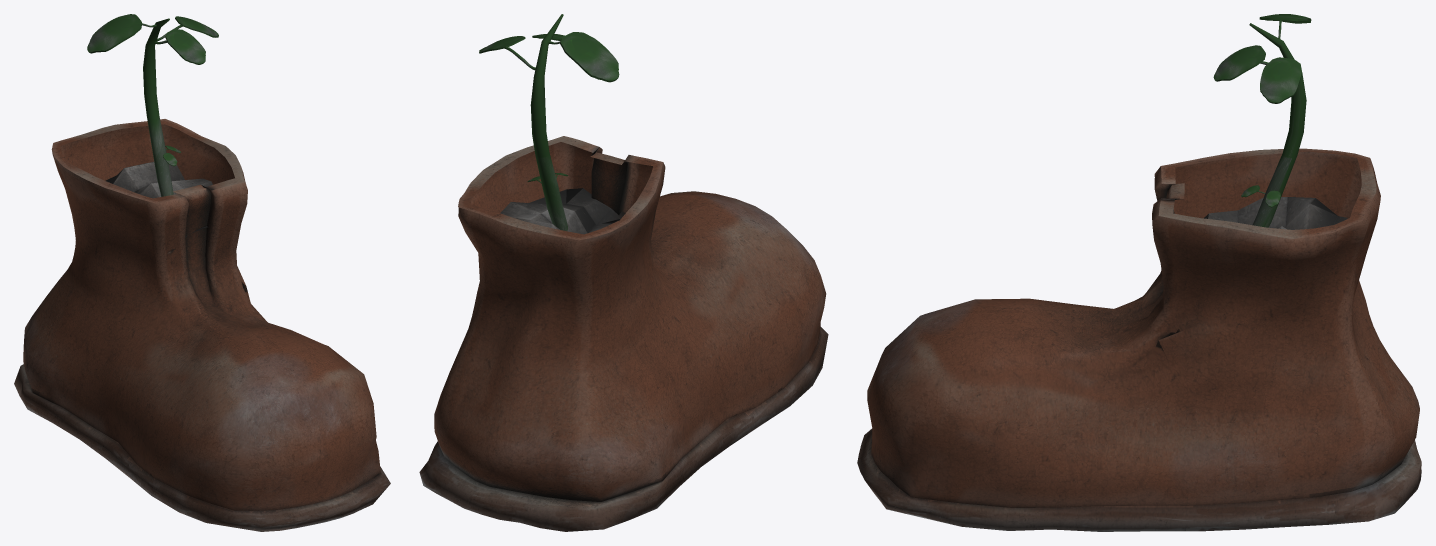
Rendered from plant.glb.
The picture shows the model from 3 angles, left to right: view 1: azimuth 30°, elevation 25°; view 2: azimuth 150°, elevation 25°; view 3: azimuth 270°, elevation 25°; orthographic projection. The views are drawn at different scales.
Parts seen in each view (by area): view 1: Object_2, Object_4, Object_3; view 2: Object_2, Object_4, Object_3; view 3: Object_2, Object_4, Object_3.
Boxes of the visible parts, <box> form: Object_2: <box>14,119,390,531</box>; Object_4: <box>87,14,218,196</box>; Object_3: <box>105,161,212,253</box>; Object_2: <box>419,136,828,531</box>; Object_4: <box>479,14,619,230</box>; Object_3: <box>500,188,625,234</box>; Object_2: <box>857,148,1421,531</box>; Object_4: <box>1213,14,1311,227</box>; Object_3: <box>1204,197,1347,229</box>.
Size of the model in its own units: 5.78 by 10.34 by 11.51.
3 materials, 3 textured.
